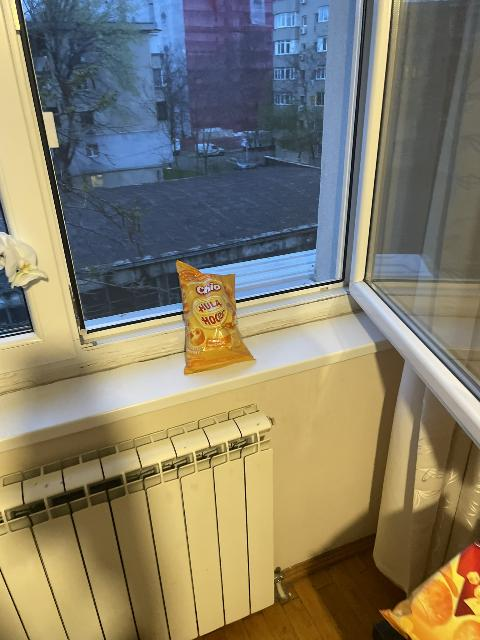Chio Cascaval 125g: (379, 529, 480, 640)
Chio Hula Hoops Cheese 70g: (177, 261, 257, 372)
